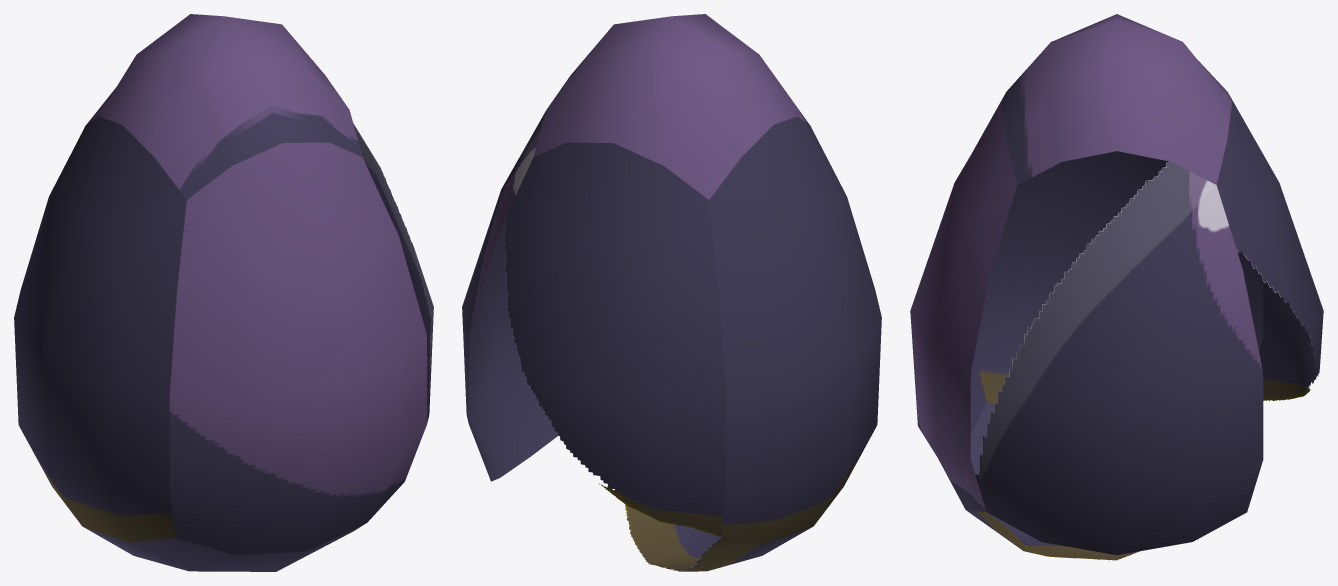
The model's file is Egg.FBX.
3 renders of one model, left to right at view 1: azimuth 30°, elevation 25°; view 2: azimuth 150°, elevation 25°; view 3: azimuth 270°, elevation 25°, orthographic.
Parts seen in each view (by area): view 1: Box001; view 2: Box001; view 3: Box001.
Part boxes in pixels (box(x1,y1,x2,y2)): Box001: box(14, 14, 433, 571); Box001: box(462, 14, 881, 571); Box001: box(910, 14, 1323, 560).
Size of the model in its own units: 27.69 by 39.25 by 27.69.
